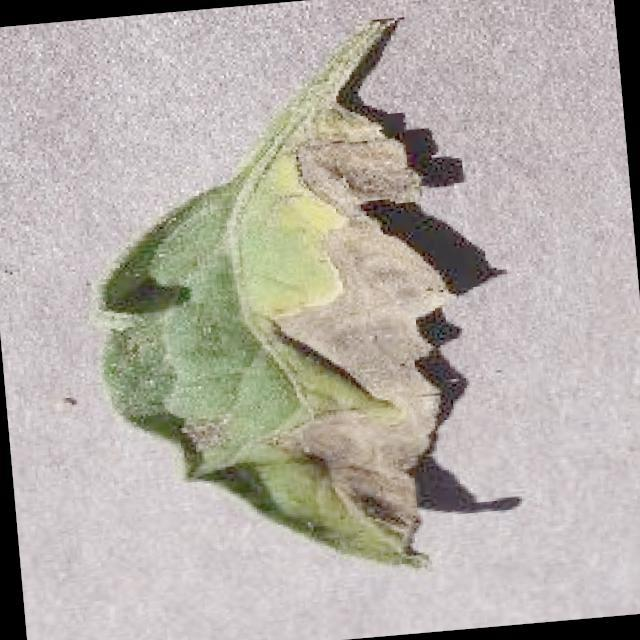Tomato Early blight leaf: (83, 86, 500, 600)
